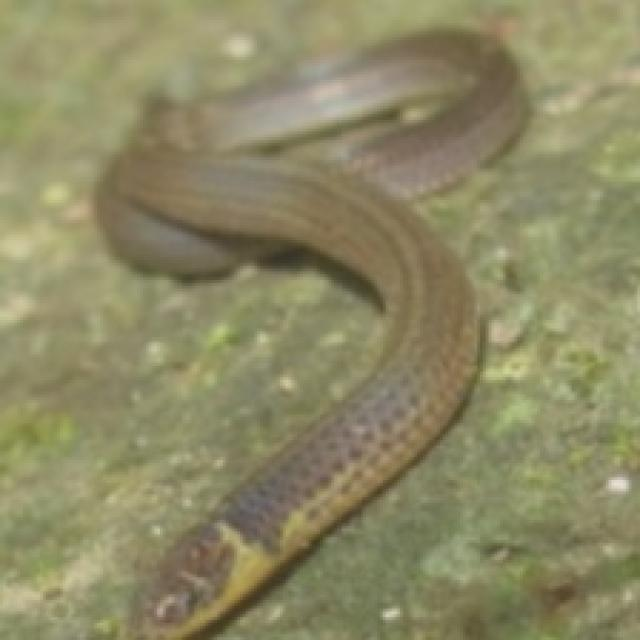gervais worm snake: (97, 31, 526, 637)
